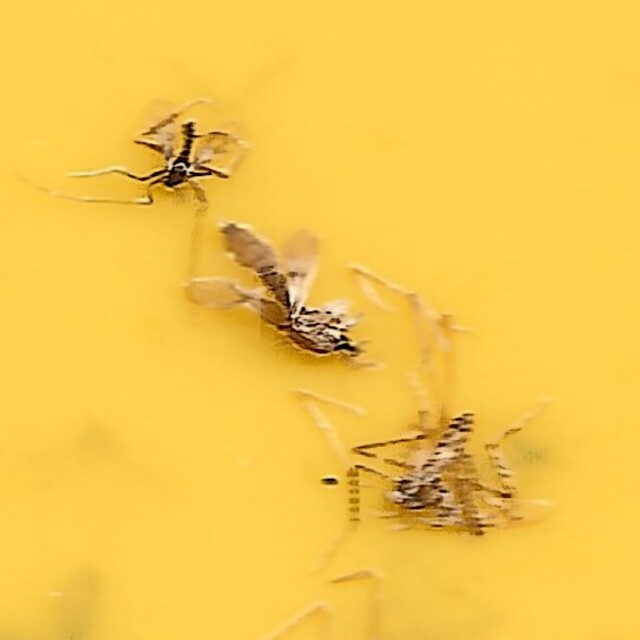Nematocera: (202, 213, 367, 361), (345, 410, 497, 526), (143, 114, 226, 198)
